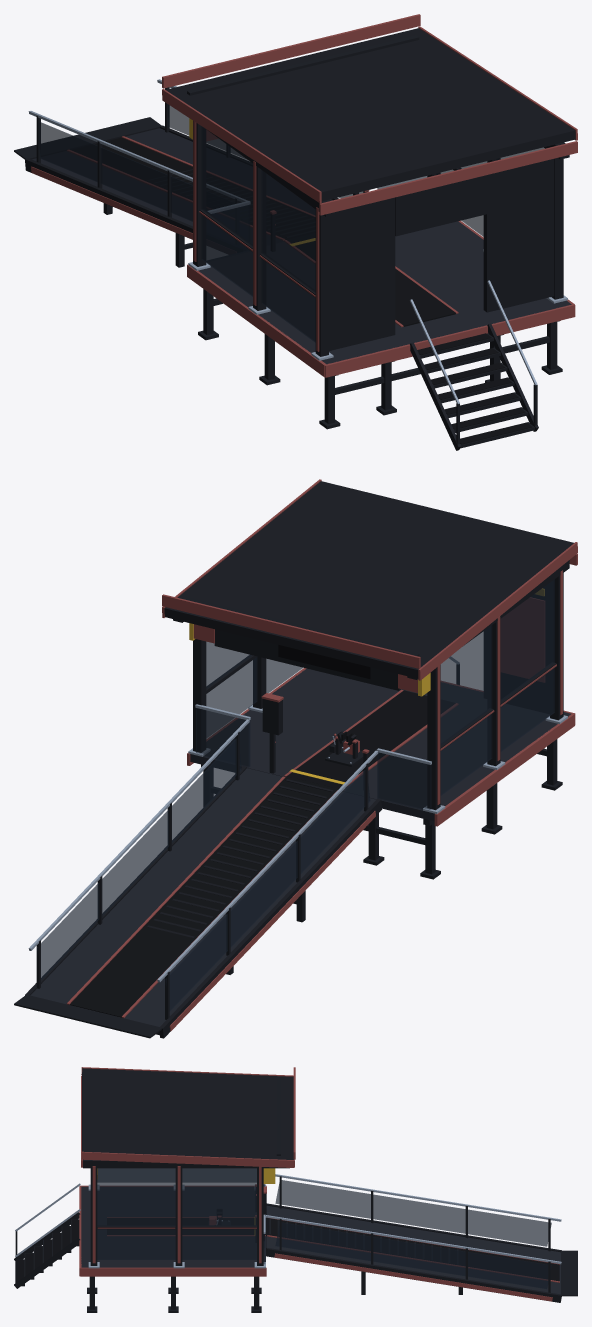
File: tt_start_ramp.glb
3 renders of one model, top to bottom at view 1: azimuth 30°, elevation 25°; view 2: azimuth 150°, elevation 25°; view 3: azimuth 270°, elevation 25°, orthographic. The views are drawn at different scales.
Parts seen in each view (by area): view 1: TT_Start_Pavilion_And_Ramp; view 2: TT_Start_Pavilion_And_Ramp; view 3: TT_Start_Pavilion_And_Ramp.
Part boxes in pixels (x1,y1,x2,y2): TT_Start_Pavilion_And_Ramp: [14, 14, 577, 450]; TT_Start_Pavilion_And_Ramp: [14, 479, 577, 1038]; TT_Start_Pavilion_And_Ramp: [14, 1067, 577, 1312].
Size of the model in its own units: 5.46 by 5.09 by 15.27.
